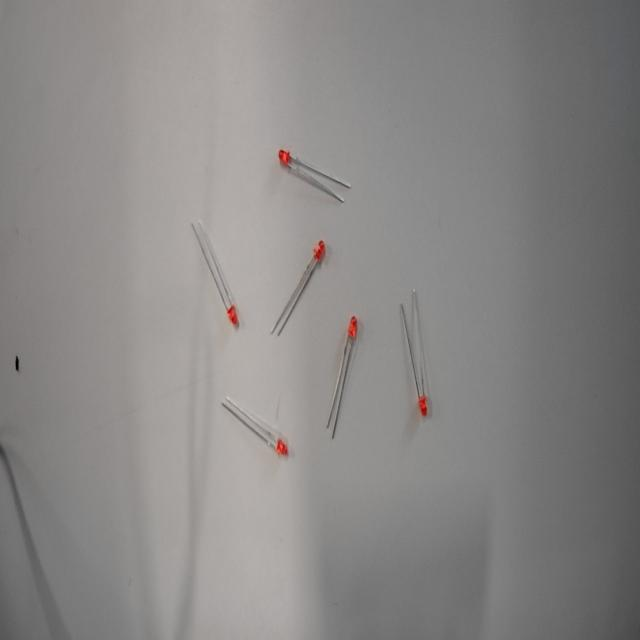LED_red: (254, 410, 298, 479), (269, 138, 310, 191), (216, 286, 252, 346), (334, 300, 370, 355), (410, 378, 440, 436), (306, 221, 336, 275)
